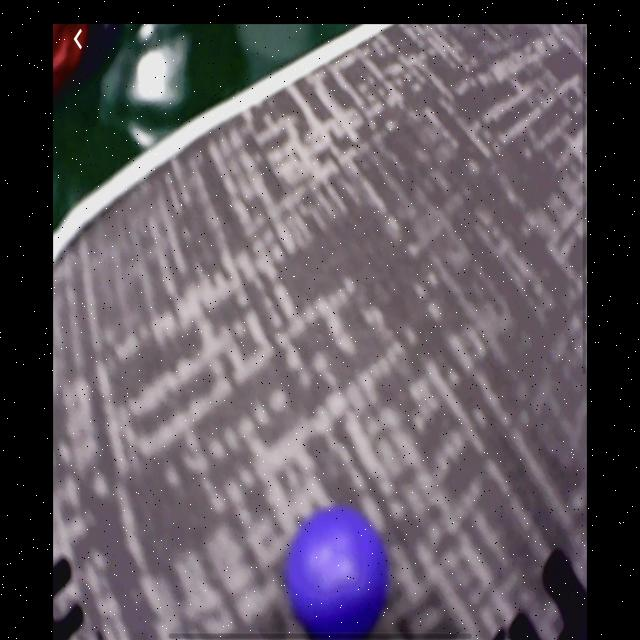ball: (292, 508, 388, 631)
